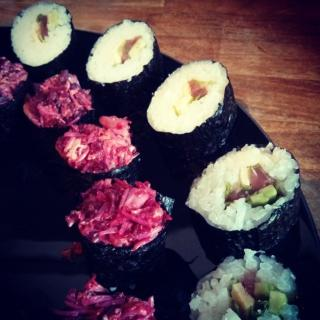Sushi: (0, 58, 176, 319), (189, 145, 304, 244), (147, 58, 237, 163), (186, 247, 308, 320), (88, 19, 160, 98), (10, 0, 77, 83)
